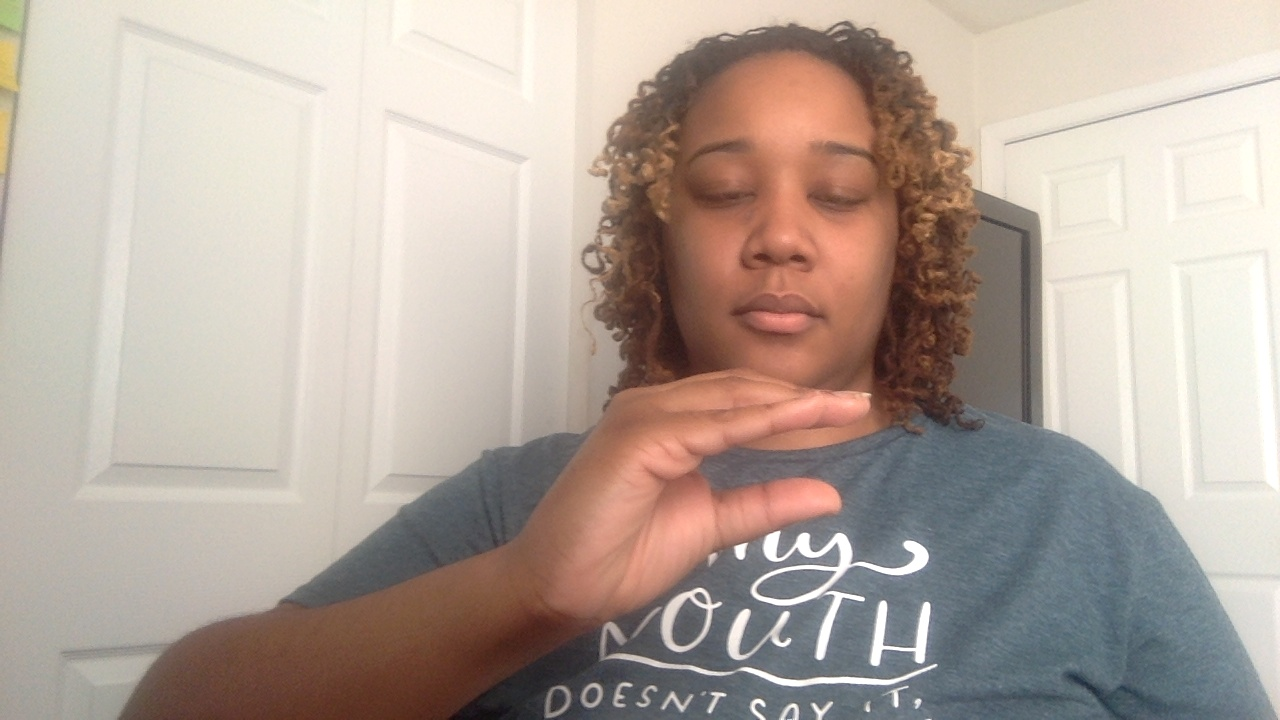no: (512, 357, 865, 646)
